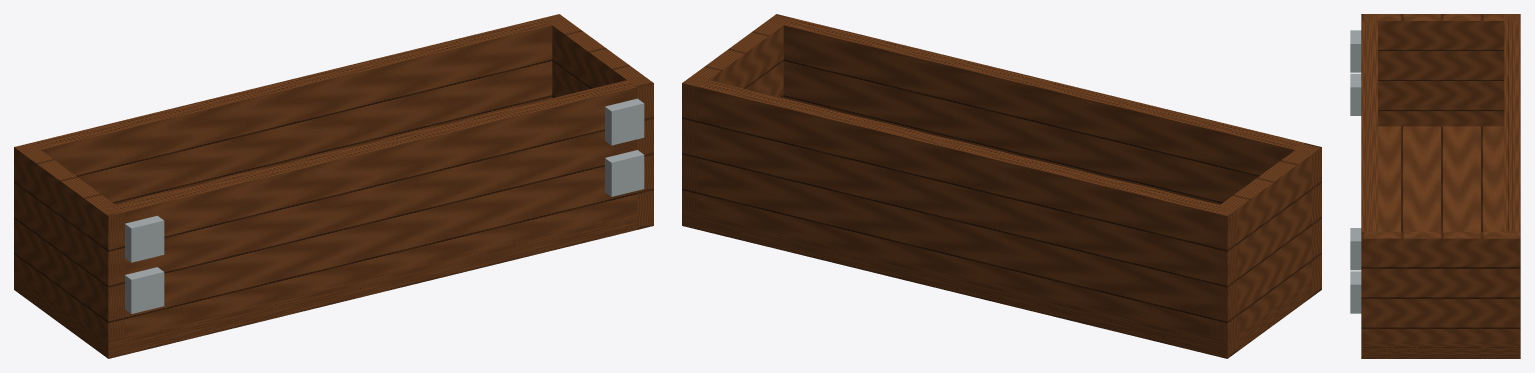
File: rural-scavenging-settlements-window-flower-box-empty-b9ceb39c__26614.glb
The picture shows the model from 3 angles, left to right: view 1: azimuth 30°, elevation 25°; view 2: azimuth 150°, elevation 25°; view 3: azimuth 270°, elevation 25°; orthographic projection. The views are drawn at different scales.
Parts seen in each view (by area): view 1: window-flower-box-empty; view 2: window-flower-box-empty; view 3: window-flower-box-empty.
Boxes of the visible parts, x1=… form: window-flower-box-empty: x1=14, y1=14, x2=653, y2=358; window-flower-box-empty: x1=682, y1=14, x2=1321, y2=358; window-flower-box-empty: x1=1350, y1=14, x2=1520, y2=358.
Size of the model in its own units: 1 by 0.25 by 0.321.
2 materials, 1 textured.
